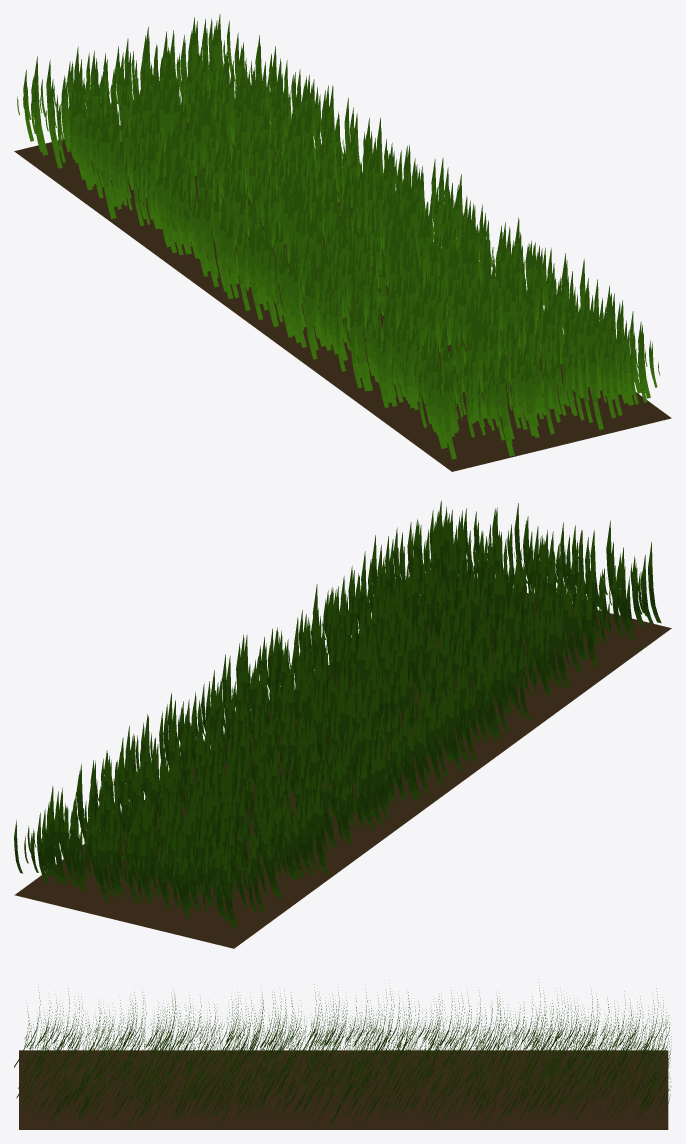
File: floor.dae
3 renders of one model, top to bottom at view 1: azimuth 30°, elevation 25°; view 2: azimuth 150°, elevation 25°; view 3: azimuth 270°, elevation 25°, orthographic. The views are drawn at different scales.
Parts seen in each view (by area): view 1: Plane.3002; view 2: Plane.3002; view 3: Plane.3002.
Part boxes in pixels (left/top/right/bottom): Plane.3002: left=14, top=110, right=671, bottom=471; Plane.3002: left=14, top=576, right=671, bottom=948; Plane.3002: left=19, top=1050, right=668, bottom=1129.
Size of the model in its own units: 2.86 by 9.99 by 1.3.
2 materials, 2 textured.
